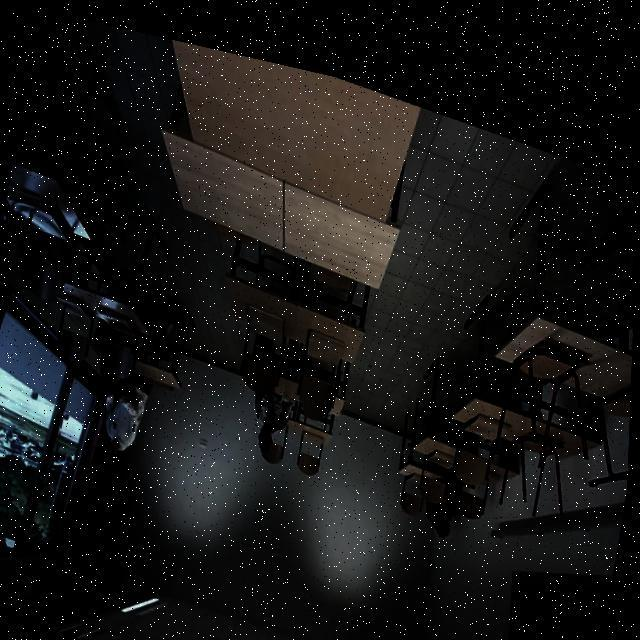phone_use: (251, 370, 297, 461), (421, 469, 458, 535)
